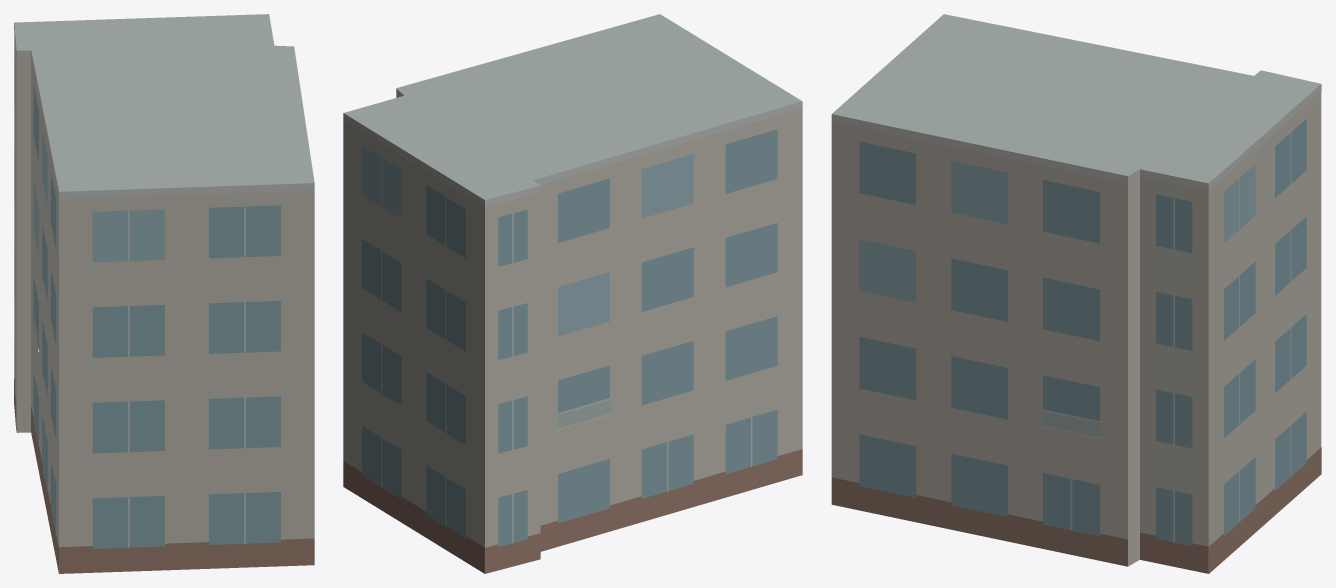
Rendered from survey-upis-32657589.glb.
3 views of the same model, side by side, from view 1: azimuth 30°, elevation 25°; view 2: azimuth 150°, elevation 25°; view 3: azimuth 270°, elevation 25° (orthographic). The views are drawn at different scales.
Visible parts, largest first — view 1: survey-upis-32657589.tmp; view 2: survey-upis-32657589.tmp; view 3: survey-upis-32657589.tmp.
Part boxes in pixels (x1=…): survey-upis-32657589.tmp: x1=14, y1=14, x2=314, y2=573; survey-upis-32657589.tmp: x1=343, y1=14, x2=802, y2=573; survey-upis-32657589.tmp: x1=831, y1=14, x2=1321, y2=573.
Bounding box in the file's own units: 11.92 × 12.8 × 14.56.
